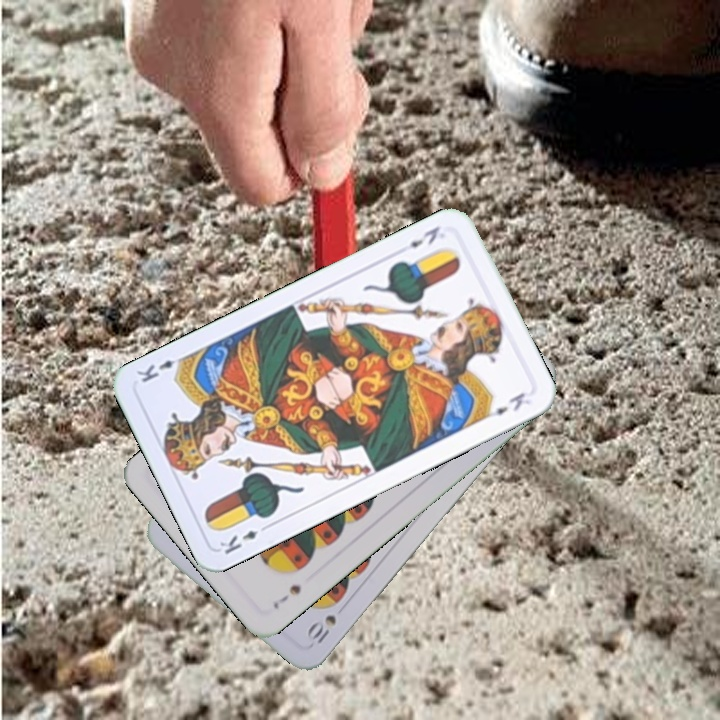EK: (215, 520, 273, 557), (405, 221, 443, 251)
S10: (303, 610, 339, 647)
S7: (269, 580, 304, 612)
